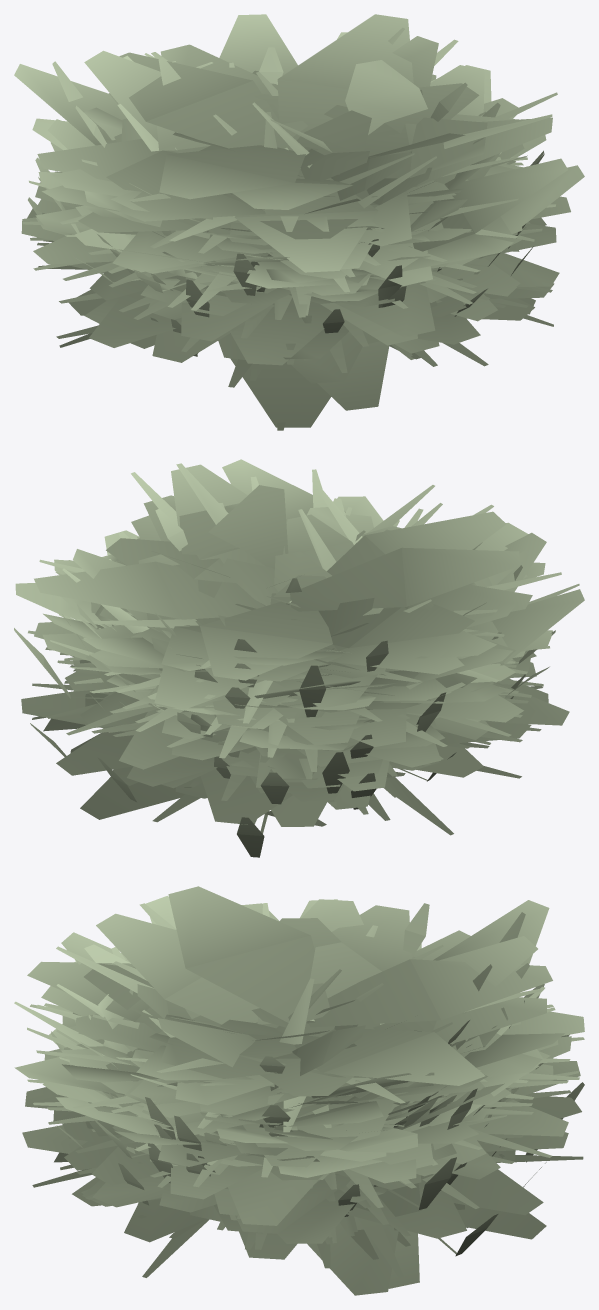
Rendered from layer_groundcover.glb.
3 views of the same model, one above another, from view 1: azimuth 30°, elevation 25°; view 2: azimuth 150°, elevation 25°; view 3: azimuth 270°, elevation 25° (orthographic). The views are drawn at different scales.
Parts seen in each view (by area): view 1: v0_foliage, v2_foliage, v1_foliage, v5_foliage, v6_foliage, v8_foliage, v7_foliage, v4_foliage, v3_foliage; view 2: v0_foliage, v2_foliage, v1_foliage, v5_foliage, v6_foliage, v8_foliage, v4_foliage, v7_foliage, v3_foliage; view 3: v0_foliage, v2_foliage, v1_foliage, v5_foliage, v8_foliage, v6_foliage, v4_foliage, v7_foliage, v3_foliage.
Part boxes in pixels (box(x1,y1,x2,y2)): v0_foliage: box(21, 14, 570, 427); v2_foliage: box(27, 44, 559, 410); v1_foliage: box(14, 14, 584, 301); v5_foliage: box(32, 60, 546, 276); v6_foliage: box(30, 114, 555, 430); v8_foliage: box(22, 39, 557, 380); v7_foliage: box(65, 27, 527, 291); v4_foliage: box(28, 61, 544, 356); v3_foliage: box(75, 47, 500, 292); v0_foliage: box(21, 464, 569, 824); v2_foliage: box(34, 511, 548, 826); v1_foliage: box(43, 459, 584, 751); v5_foliage: box(15, 507, 529, 720); v6_foliage: box(28, 463, 561, 822); v8_foliage: box(32, 472, 552, 835); v4_foliage: box(14, 565, 525, 857); v7_foliage: box(50, 469, 579, 720); v3_foliage: box(61, 498, 555, 757); v0_foliage: box(22, 886, 584, 1259); v2_foliage: box(41, 899, 571, 1295); v1_foliage: box(14, 896, 564, 1177); v5_foliage: box(42, 944, 550, 1165); v8_foliage: box(27, 925, 578, 1277); v6_foliage: box(32, 903, 584, 1259); v4_foliage: box(51, 912, 584, 1256); v7_foliage: box(14, 903, 544, 1179); v3_foliage: box(80, 903, 569, 1161).
Bounding box in the file's own units: 2.38 × 1 × 2.38.
